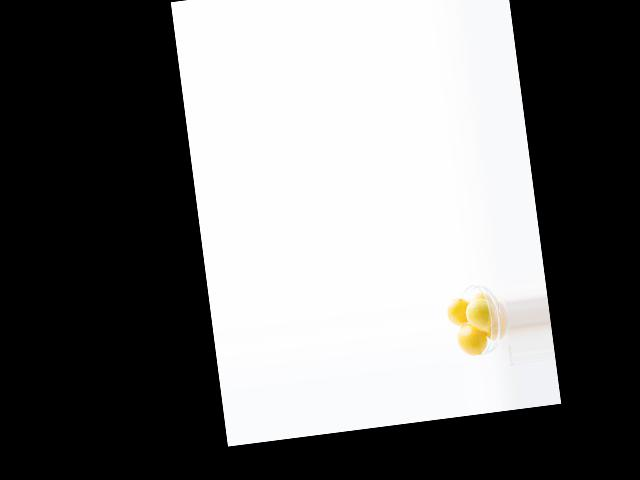lemon: (455, 320, 484, 359)
